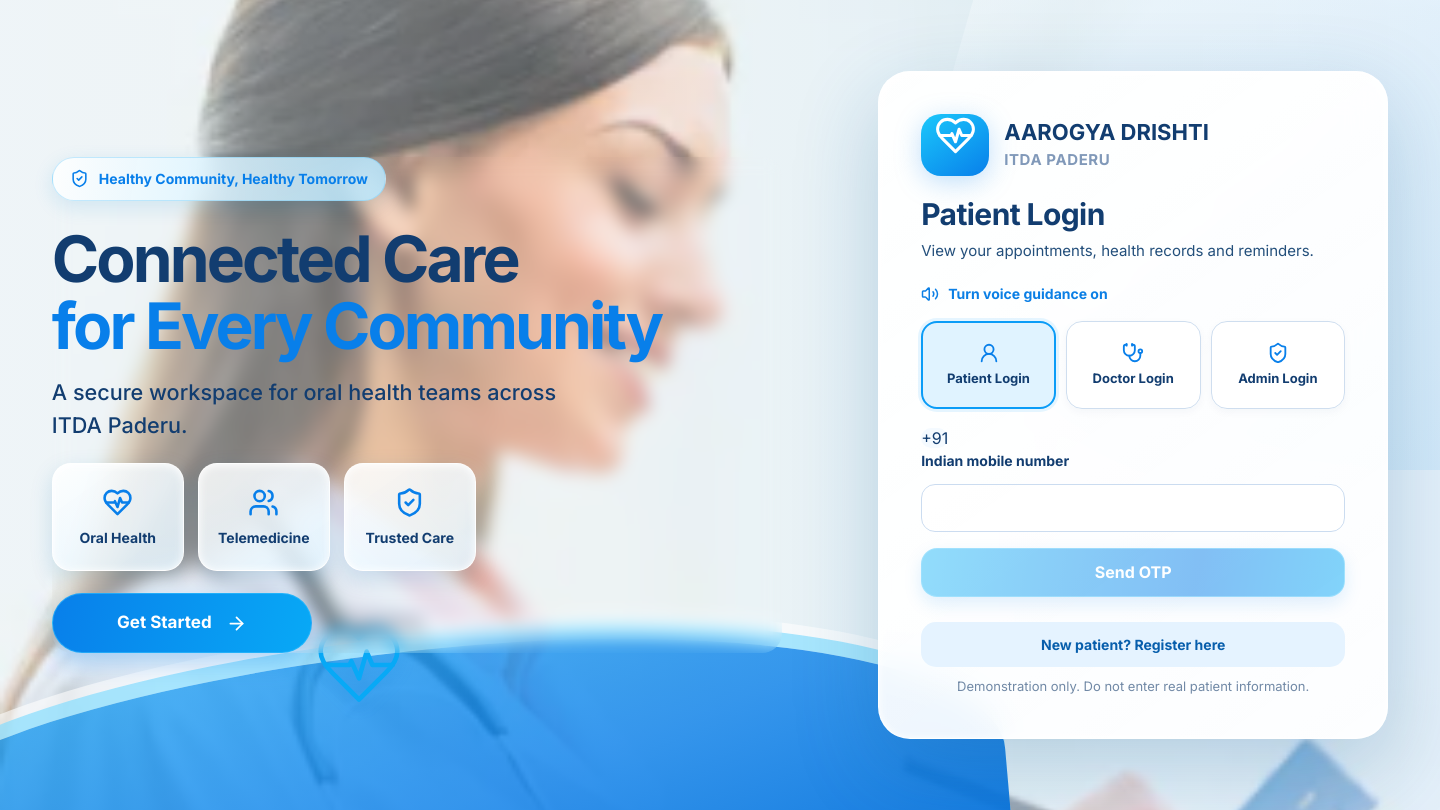
Scenario: role-based login selection › sends an unregistered patient to registration with their mobile number
Type "9876543210" into the field labelled "Indian mobile number" at point(1133, 508), box [921,484,1345,532]
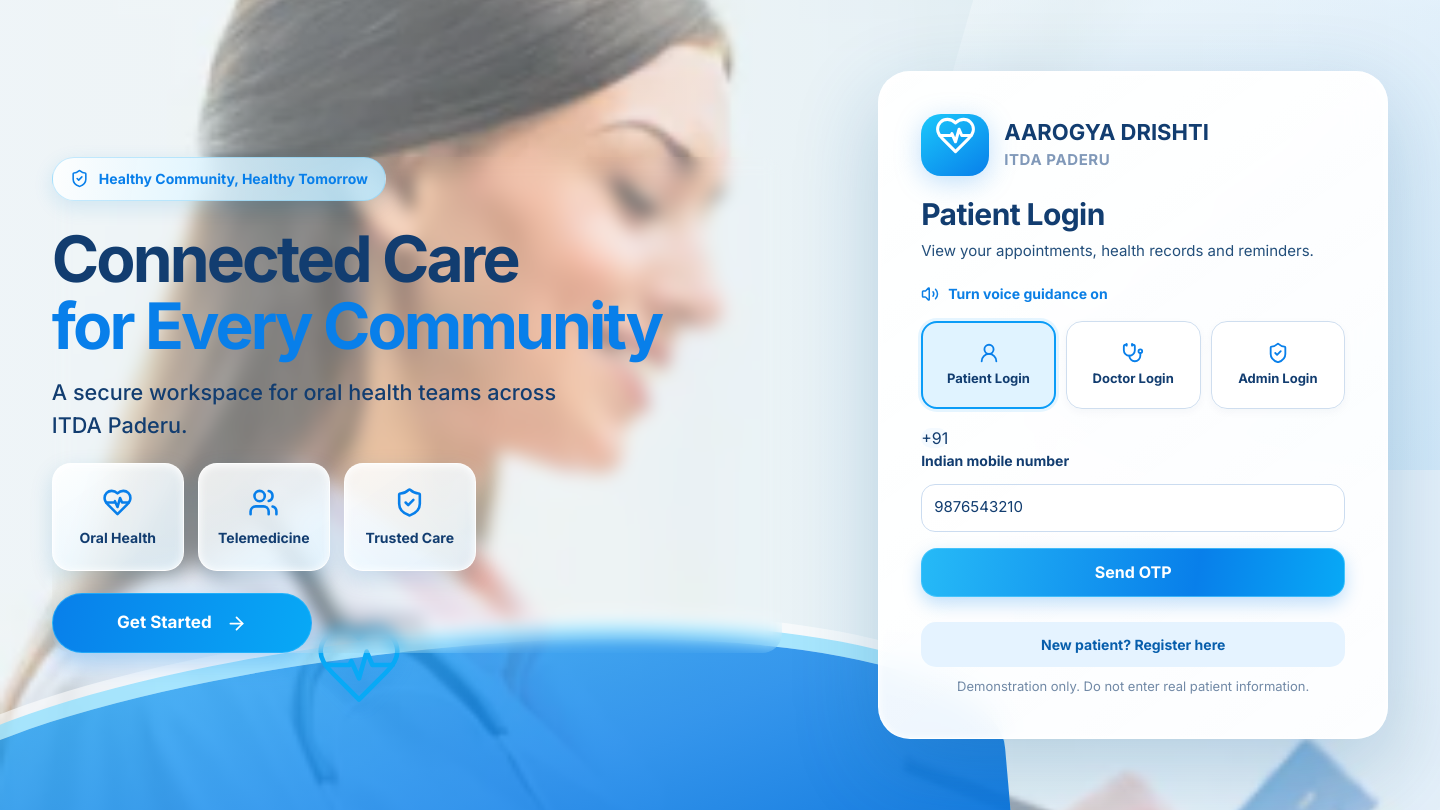
Click the button "Send OTP" at point(1133, 572), box [921,548,1345,596]
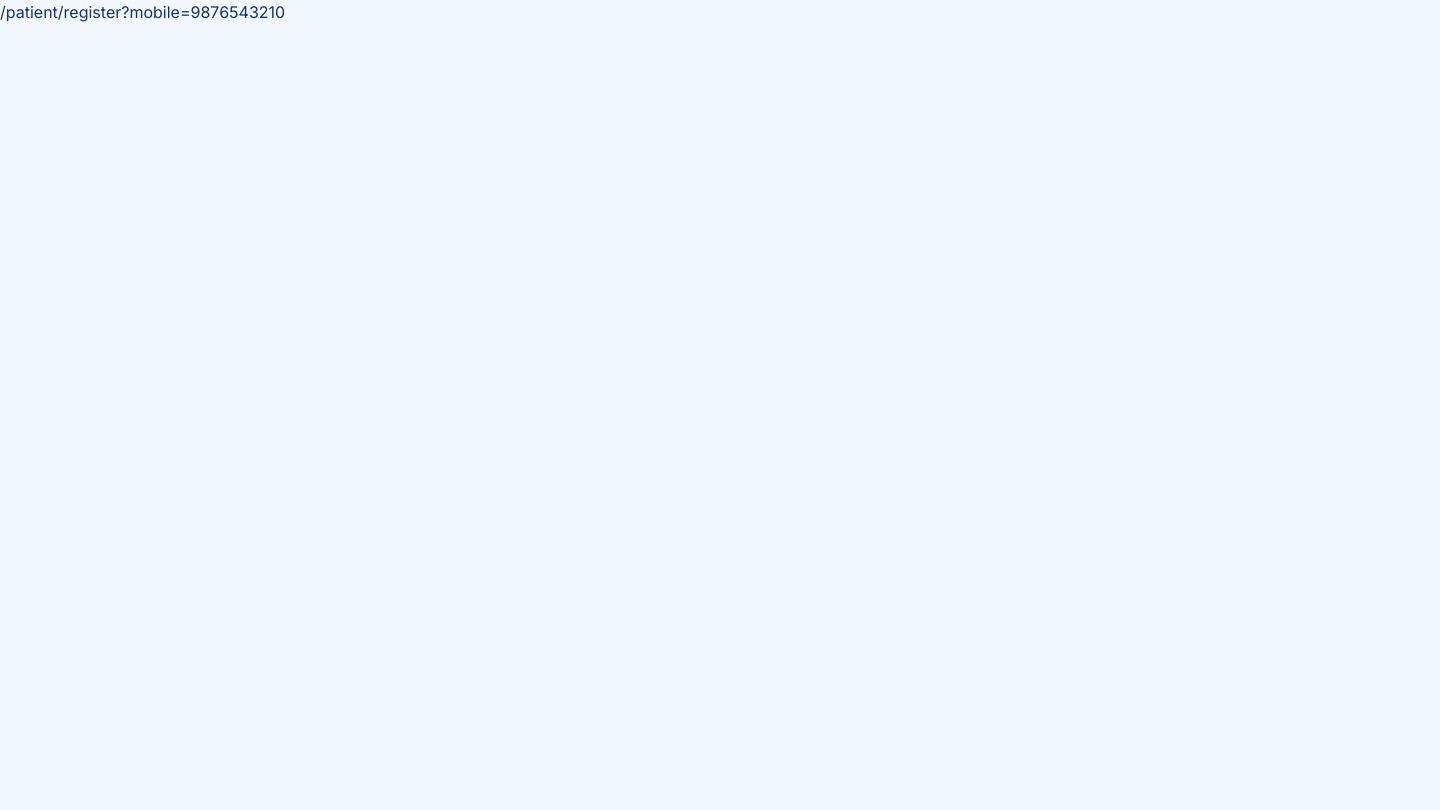
Now the text with test id "current-path" reads "/patient/register?mobile=9876543210", box [0,2,285,22]
